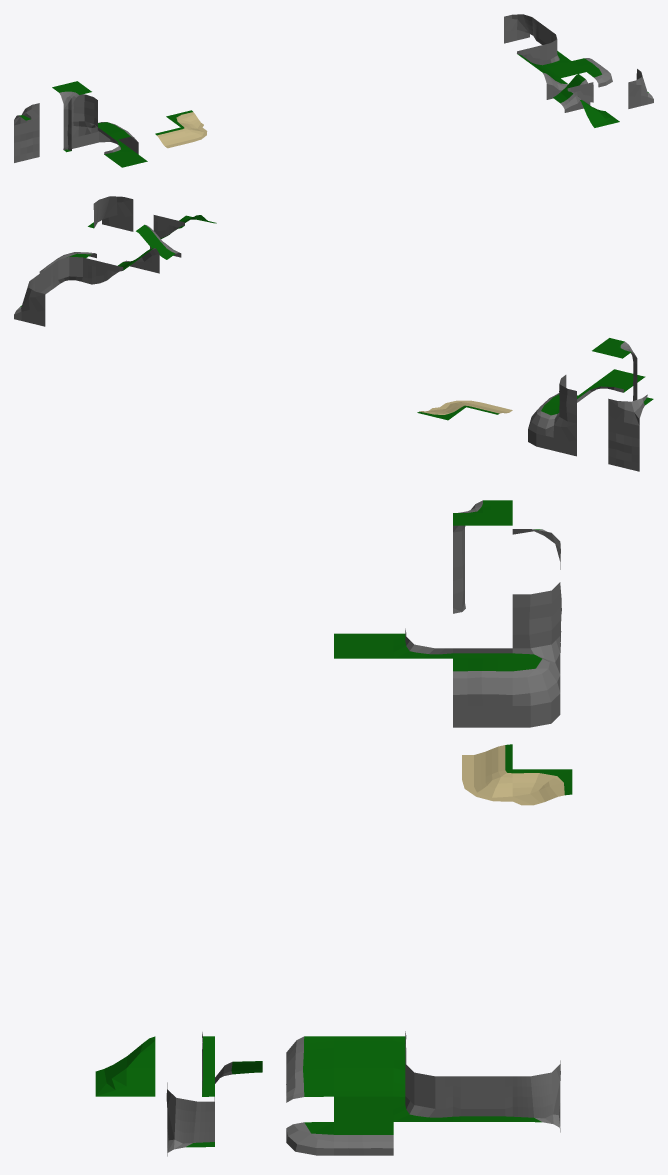
Rendered from cliff6.glb.
3 renders of one model, top to bottom at view 1: azimuth 30°, elevation 25°; view 2: azimuth 150°, elevation 25°; view 3: azimuth 270°, elevation 25°, orthographic. The views are drawn at different scales.
Parts seen in each view (by area): view 1: CornerEdgeSingle.007, CliffFace.004, CornerEdgePlain, GroundFlatCorner_col, CornerEdgeSingleFlipped, CornerEdgeSingle.009, EdgeRamp.001, CornerEdgeSingle, CornerEdgeDoubleFlatTall, Ramp.003, SandEdge_BOT, SandCornerInner_BOT_NOID (+12 smaller); view 2: CornerEdgeSingleFlipped, CornerEdgeSingle.009, CornerEdgeSingle, CliffFace.004, CornerEdgeDoubleFlatTall, CornerEdgeSingle.007, TopCorner_NOID, CornerEdgePlain, GroundFlatCorner_col, EdgeRamp.001, GroundFlat_NO_SYM, EdgeRamp (+3 smaller); view 3: Edge, Ramp, TopCorner_NOID, EdgeRamp, CliffFaceBottomTall, CornerEdgePlain, CornerEdgeDoubleFlatTall, Ramp.003, CornerEdgeSingle.007, CornerEdgeSingle.009, Edge.023, SandCornerInner_BOT_NOID (+7 smaller).
Boxes of the visible parts, bbox=[...] form: CornerEdgeSingle.007: bbox=[504, 14, 536, 43]; CliffFace.004: bbox=[14, 130, 39, 162]; CornerEdgePlain: bbox=[71, 94, 97, 126]; GroundFlatCorner_col: bbox=[52, 81, 91, 120]; CornerEdgeSingleFlipped: bbox=[14, 103, 39, 135]; CornerEdgeSingle.009: bbox=[628, 69, 653, 108]; EdgeRamp.001: bbox=[553, 74, 590, 112]; CornerEdgeSingle: bbox=[71, 121, 102, 148]; CornerEdgeDoubleFlatTall: bbox=[542, 31, 571, 67]; Ramp.003: bbox=[580, 100, 619, 127]; SandEdge_BOT: bbox=[155, 127, 192, 148]; SandCornerInner_BOT_NOID: bbox=[166, 110, 203, 128]; CornerEdgeSingleFlipped: bbox=[608, 394, 653, 438]; CornerEdgeSingle.009: bbox=[88, 196, 133, 231]; CornerEdgeSingle: bbox=[545, 410, 576, 456]; CliffFace.004: bbox=[608, 431, 639, 471]; CornerEdgeDoubleFlatTall: bbox=[52, 256, 92, 288]; CornerEdgeSingle.007: bbox=[14, 277, 45, 326]; TopCorner_NOID: bbox=[528, 405, 559, 448]; CornerEdgePlain: bbox=[559, 375, 576, 423]; GroundFlatCorner_col: bbox=[592, 338, 637, 377]; EdgeRamp.001: bbox=[136, 224, 181, 259]; GroundFlat_NO_SYM: bbox=[596, 369, 645, 389]; EdgeRamp: bbox=[118, 248, 159, 273]; Edge: bbox=[453, 658, 512, 727]; Ramp: bbox=[334, 1036, 393, 1096]; TopCorner_NOID: bbox=[512, 658, 560, 727]; EdgeRamp: bbox=[286, 1036, 333, 1102]; CliffFaceBottomTall: bbox=[453, 1076, 512, 1121]; CornerEdgePlain: bbox=[512, 582, 561, 648]; CornerEdgeDoubleFlatTall: bbox=[393, 1057, 452, 1121]; Ramp.003: bbox=[95, 1036, 155, 1096]; CornerEdgeSingle.007: bbox=[512, 1060, 560, 1132]; CornerEdgeSingle.009: bbox=[166, 1082, 214, 1156]; Edge.023: bbox=[334, 1122, 393, 1155]; SandCornerInner_BOT_NOID: bbox=[512, 769, 572, 805].
Size of the model in its own units: 21 by 2.9 by 8.
